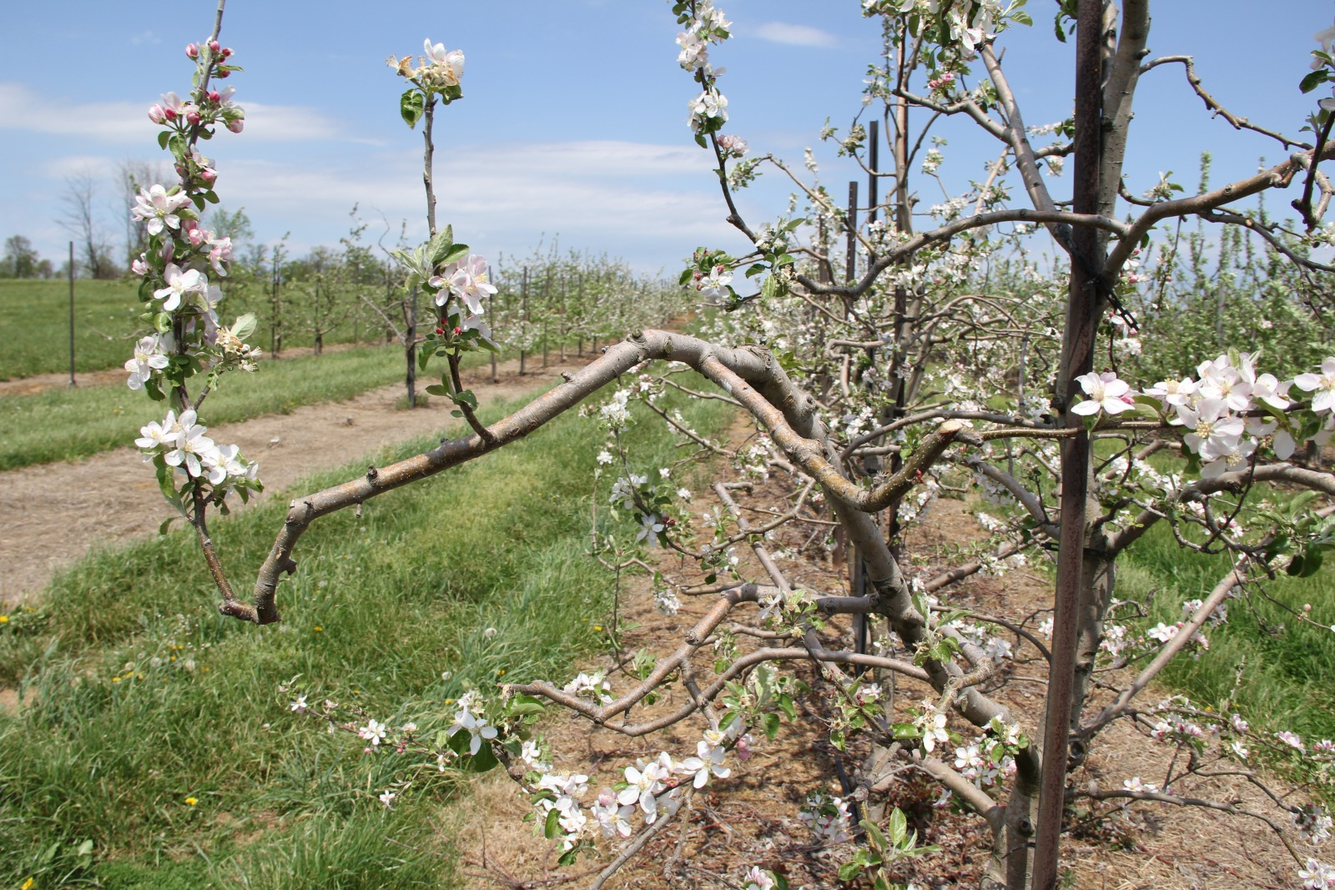flower: (591, 716, 747, 838), (1144, 355, 1291, 479), (135, 406, 249, 487), (428, 252, 498, 340), (154, 263, 224, 334), (676, 0, 733, 79), (530, 769, 589, 832), (446, 694, 498, 756), (952, 742, 1017, 791), (182, 219, 236, 277), (125, 331, 176, 392), (949, 0, 1002, 58), (797, 792, 852, 847), (131, 185, 189, 236), (1071, 370, 1136, 415), (950, 620, 1014, 664), (688, 87, 744, 135), (1296, 356, 1335, 413), (970, 466, 1013, 510), (149, 92, 201, 125), (425, 38, 465, 76), (1297, 804, 1334, 844), (1107, 315, 1143, 356), (699, 266, 734, 302), (1298, 858, 1335, 890), (1274, 732, 1313, 760), (599, 390, 633, 422), (1134, 459, 1169, 490), (190, 143, 219, 179), (1101, 621, 1128, 657), (924, 715, 950, 752), (637, 514, 664, 548), (562, 671, 602, 693), (208, 85, 240, 112), (1166, 713, 1202, 737), (940, 373, 975, 397), (995, 712, 1020, 745), (846, 407, 873, 435), (359, 719, 386, 746), (744, 866, 774, 890), (1122, 777, 1164, 794), (1313, 25, 1335, 57), (1146, 622, 1179, 642), (756, 594, 781, 620), (734, 734, 757, 762), (1274, 430, 1295, 460), (977, 512, 1005, 533), (609, 478, 633, 502), (1029, 399, 1052, 423), (918, 481, 940, 506), (723, 135, 750, 155), (753, 223, 774, 247), (1151, 722, 1175, 743), (657, 597, 683, 616), (522, 740, 541, 765), (952, 416, 980, 431), (1182, 600, 1202, 621), (1191, 630, 1210, 651), (1038, 617, 1054, 641), (897, 502, 917, 521), (699, 514, 718, 534), (394, 722, 419, 737), (380, 790, 397, 812), (933, 788, 952, 807), (290, 694, 308, 714), (133, 254, 149, 276), (720, 548, 739, 566), (863, 683, 883, 700), (1232, 742, 1251, 759), (1232, 714, 1250, 731), (960, 400, 985, 412), (432, 752, 446, 772), (913, 577, 929, 594), (227, 118, 245, 133), (630, 474, 648, 489), (564, 833, 579, 851), (1216, 604, 1229, 624), (1311, 57, 1326, 73), (1320, 98, 1335, 114), (597, 450, 613, 465), (1317, 739, 1335, 752), (985, 741, 999, 754), (1010, 555, 1026, 566), (599, 694, 616, 704), (938, 465, 953, 476), (975, 734, 988, 744), (602, 681, 611, 691), (746, 884, 760, 890), (981, 723, 992, 730), (1311, 388, 1318, 391)
